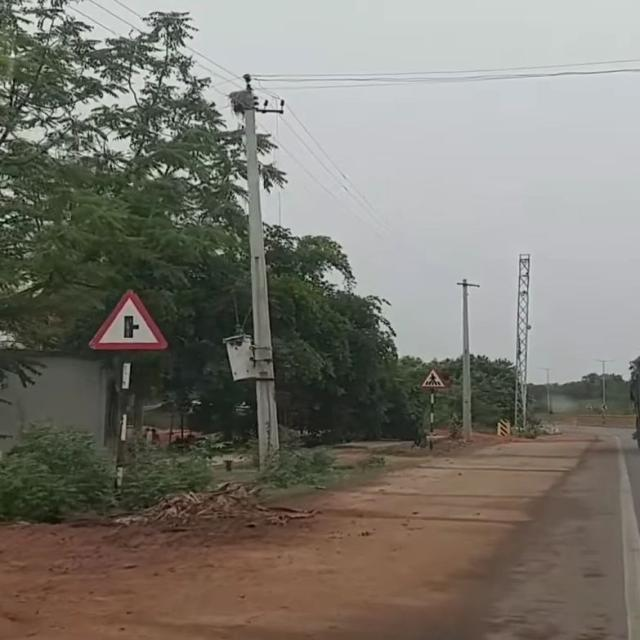side road right: (88, 290, 171, 352)
